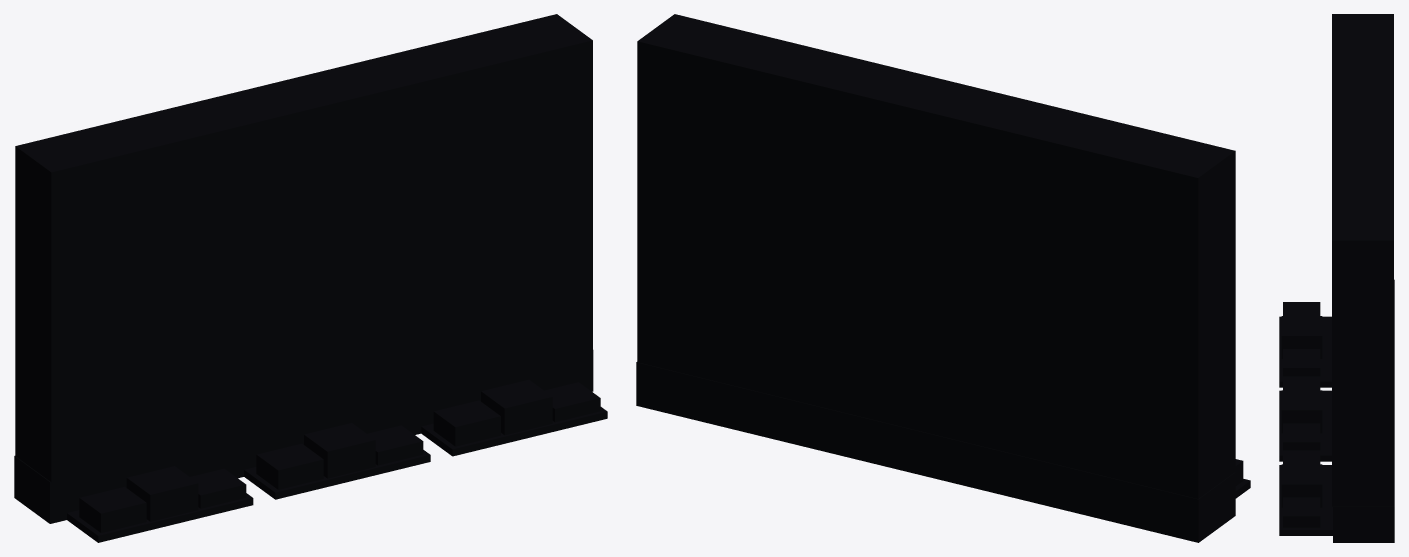
File: COL_Leaderboard_Body.glb
The picture shows the model from 3 angles, left to right: view 1: azimuth 30°, elevation 25°; view 2: azimuth 150°, elevation 25°; view 3: azimuth 270°, elevation 25°; orthographic projection. The views are drawn at different scales.
Visible parts, largest first — view 1: COL_Leaderboard_MainWallHull, COL_Leaderboard_WallPlinthHull, COL_Leaderboard_Stage_A_Hull, COL_Leaderboard_Stage_C_Hull, COL_Leaderboard_Stage_B_Hull; view 2: COL_Leaderboard_MainWallHull, COL_Leaderboard_WallPlinthHull; view 3: COL_Leaderboard_MainWallHull, COL_Leaderboard_Stage_C_Hull, COL_Leaderboard_Stage_A_Hull, COL_Leaderboard_Stage_B_Hull, COL_Leaderboard_WallPlinthHull.
Part boxes in pixels (<box>): COL_Leaderboard_MainWallHull: <box>15,14,592,482</box>; COL_Leaderboard_WallPlinthHull: <box>14,350,593,523</box>; COL_Leaderboard_Stage_A_Hull: <box>67,466,253,542</box>; COL_Leaderboard_Stage_C_Hull: <box>421,379,607,456</box>; COL_Leaderboard_Stage_B_Hull: <box>244,423,430,499</box>; COL_Leaderboard_MainWallHull: <box>637,14,1235,498</box>; COL_Leaderboard_WallPlinthHull: <box>636,362,1235,542</box>; COL_Leaderboard_MainWallHull: <box>1332,14,1393,506</box>; COL_Leaderboard_Stage_C_Hull: <box>1279,450,1332,535</box>; COL_Leaderboard_Stage_A_Hull: <box>1279,302,1331,387</box>; COL_Leaderboard_Stage_B_Hull: <box>1279,376,1331,461</box>; COL_Leaderboard_WallPlinthHull: <box>1333,279,1394,542</box>.
Bounding box in the file's own units: 42 × 26 × 9.
1 material, 1 textured.
